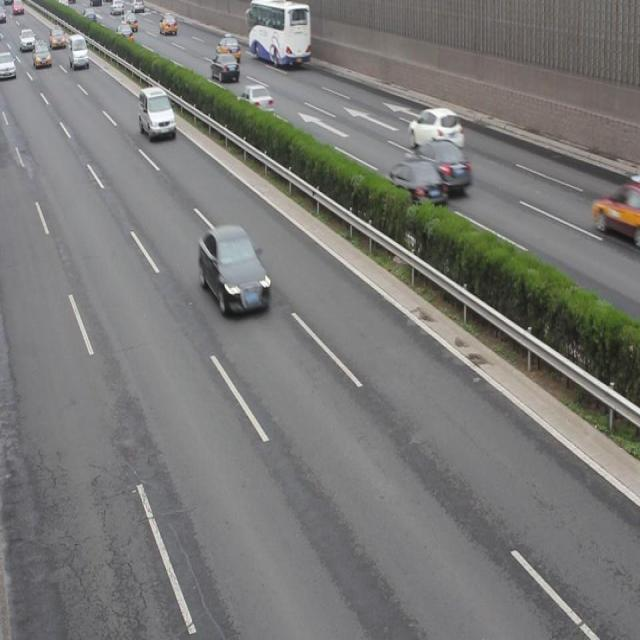car: (198, 226, 269, 313), (406, 138, 471, 190), (382, 160, 447, 211), (407, 106, 464, 150), (239, 83, 273, 118), (210, 52, 238, 81), (216, 33, 240, 62), (33, 41, 51, 72), (1, 49, 16, 79), (115, 24, 134, 45), (159, 15, 177, 36)
truck: (137, 89, 176, 139), (68, 36, 89, 71)
van: (247, 1, 310, 65)
